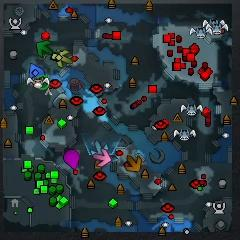Other: (37, 75, 50, 90)
p1: (29, 62, 45, 77)
p3: (63, 149, 80, 169)
x1: (93, 149, 111, 167)
x2: (57, 51, 72, 67)
x3: (91, 141, 109, 156)
x4: (36, 40, 53, 56)
x5: (126, 155, 142, 172)
